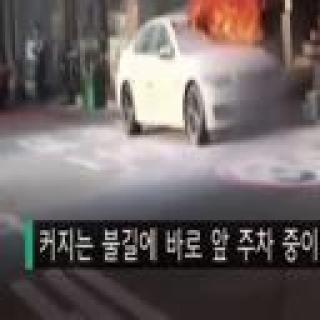fire: (200, 0, 268, 44)
